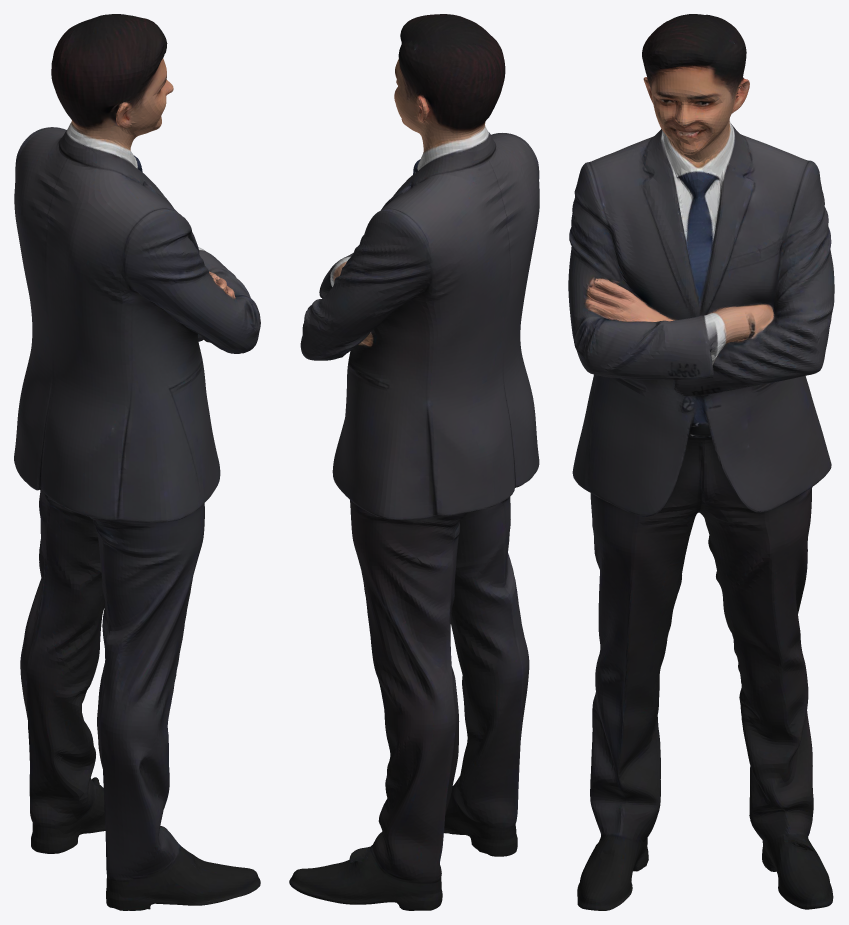
The model's file is avatar_devansh.glb.
3 renders of one model, left to right at view 1: azimuth 30°, elevation 25°; view 2: azimuth 150°, elevation 25°; view 3: azimuth 270°, elevation 25°, orthographic.
Visible parts, largest first — view 1: tripo_node_1981e11e-fb51-4bb3-8e32-38585e02f335; view 2: tripo_node_1981e11e-fb51-4bb3-8e32-38585e02f335; view 3: tripo_node_1981e11e-fb51-4bb3-8e32-38585e02f335.
Part boxes in pixels (x1=…): tripo_node_1981e11e-fb51-4bb3-8e32-38585e02f335: x1=14, y1=14, x2=260, y2=910; tripo_node_1981e11e-fb51-4bb3-8e32-38585e02f335: x1=289, y1=14, x2=539, y2=910; tripo_node_1981e11e-fb51-4bb3-8e32-38585e02f335: x1=568, y1=14, x2=834, y2=910.
Size of the model in its own units: 0.2347 by 1 by 0.2834.
1 material, 1 textured.
